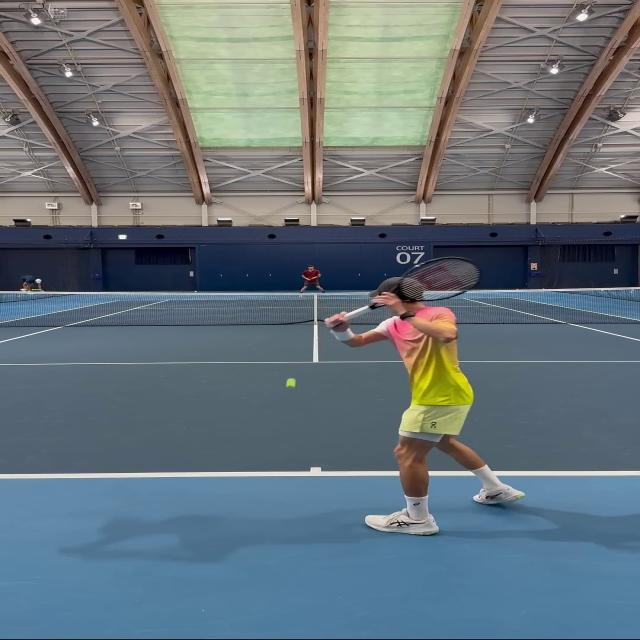tennis_ball: (287, 380, 295, 386)
